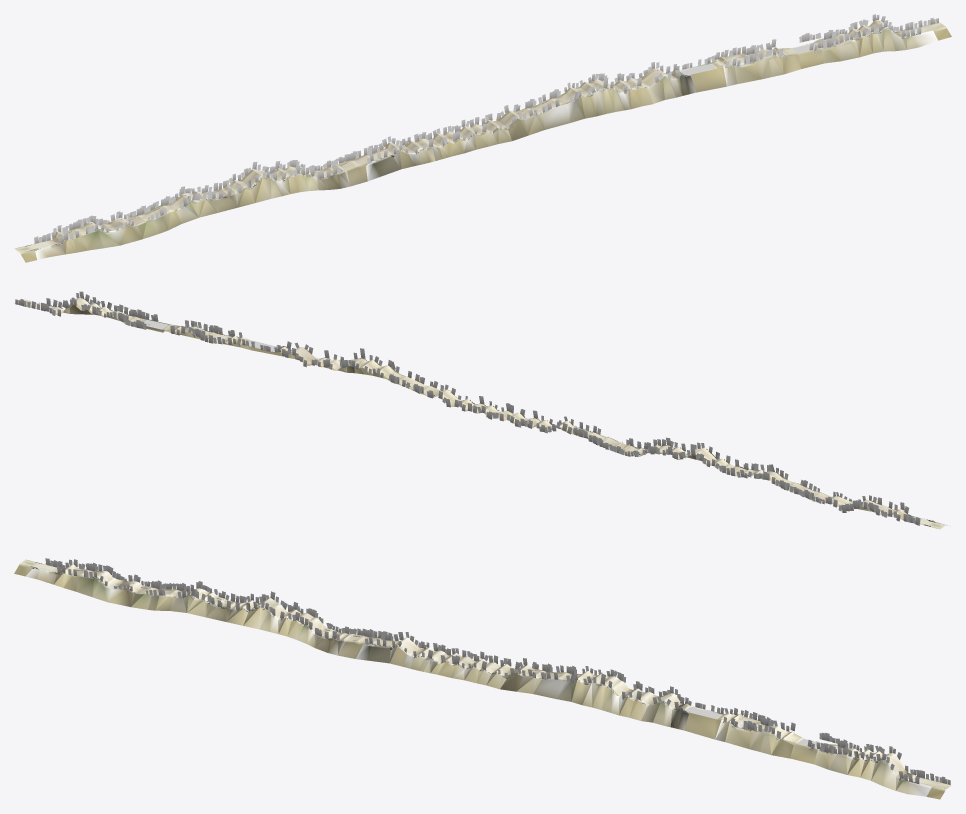
File: Beach_08.fbx
3 renders of one model, top to bottom at view 1: azimuth 30°, elevation 25°; view 2: azimuth 150°, elevation 25°; view 3: azimuth 330°, elevation 25°, orthographic.
Parts seen in each view (by area): view 1: Mountain_01, Tree_01, Road_01, Ground_01; view 2: Tree_01, Ground_01, Road_01; view 3: Mountain_01, Tree_01, Road_01, Ground_01.
Boxes of the visible parts, box(x1,y1,x2,y2) form: Mountain_01: box(35, 26, 937, 259); Tree_01: box(34, 14, 938, 250); Road_01: box(14, 20, 951, 262); Ground_01: box(15, 21, 945, 252); Tree_01: box(15, 291, 933, 525); Ground_01: box(18, 298, 945, 528); Road_01: box(14, 299, 947, 529); Mountain_01: box(25, 568, 931, 796); Tree_01: box(32, 558, 950, 784); Road_01: box(14, 559, 951, 799); Ground_01: box(20, 560, 950, 789).
Size of the model in its own units: 121298 by 5599 by 3944.
